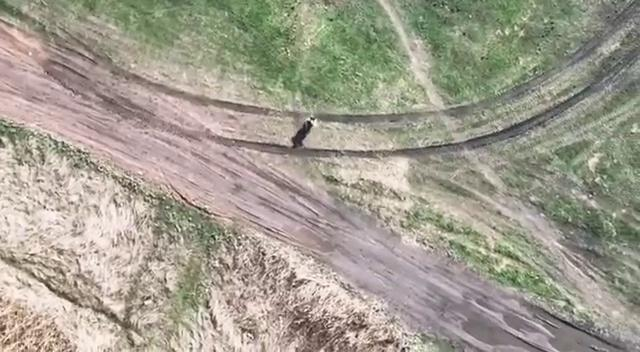person: (305, 116, 317, 129)
